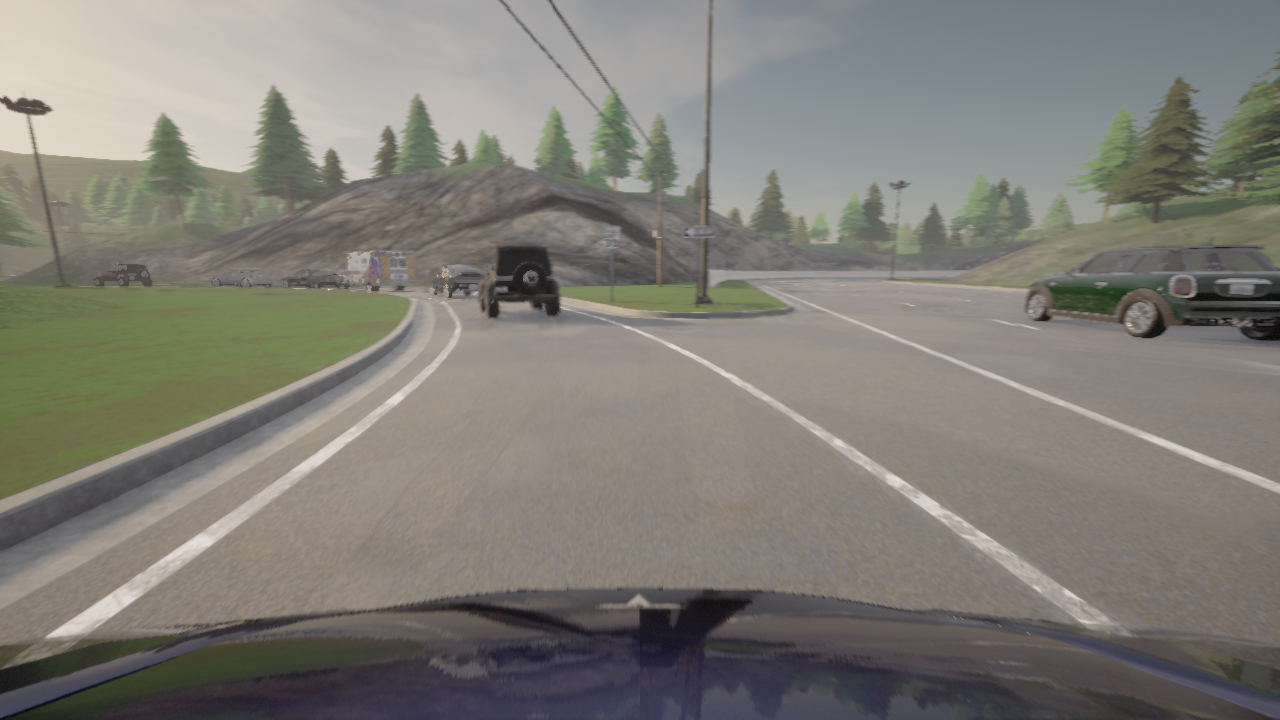cyclist: (0, 588, 1279, 719), (1023, 238, 1279, 340), (478, 244, 560, 318), (337, 250, 418, 291), (430, 265, 487, 298), (92, 263, 154, 286), (280, 268, 339, 288), (210, 268, 272, 287)
